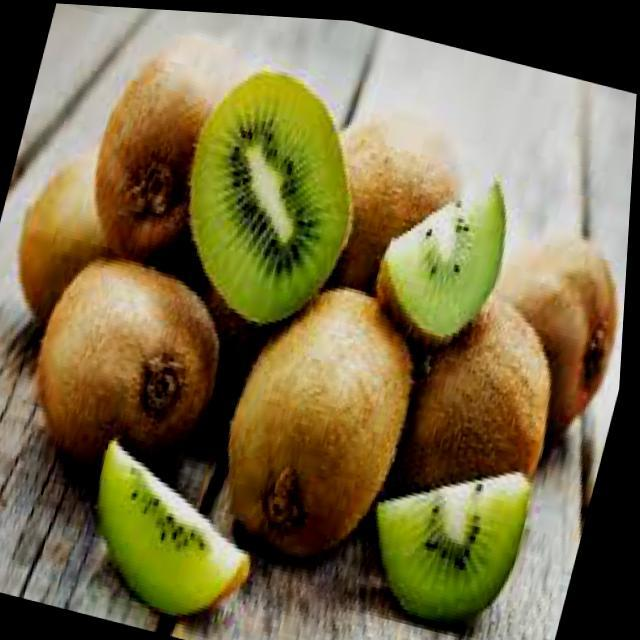kiwi: (204, 258, 436, 568), (17, 253, 266, 499), (67, 14, 242, 275), (354, 438, 556, 640), (485, 192, 632, 455)
